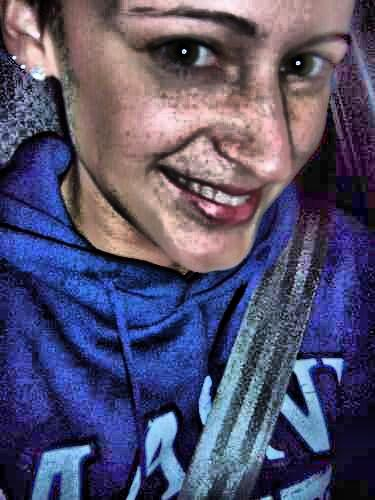seatbelt: (173, 222, 345, 468)
